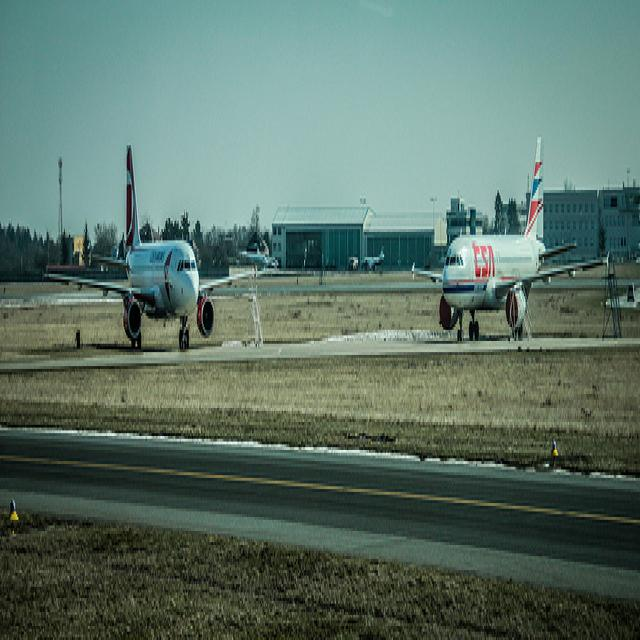airplane: (41, 138, 257, 353), (411, 133, 608, 344)
